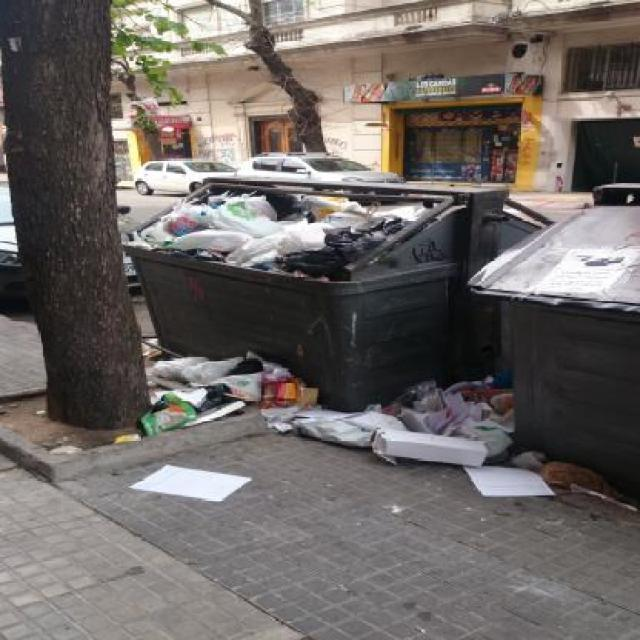garbage: (156, 174, 450, 282), (136, 353, 340, 433), (356, 392, 512, 464), (125, 465, 268, 511), (460, 471, 587, 499)
